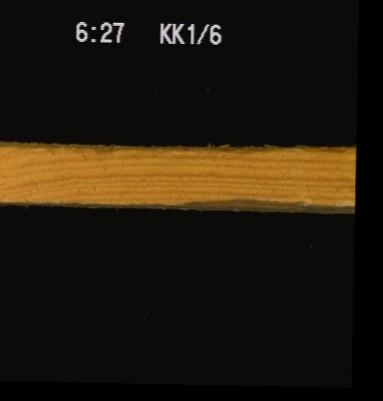wave: (166, 192, 338, 208)
